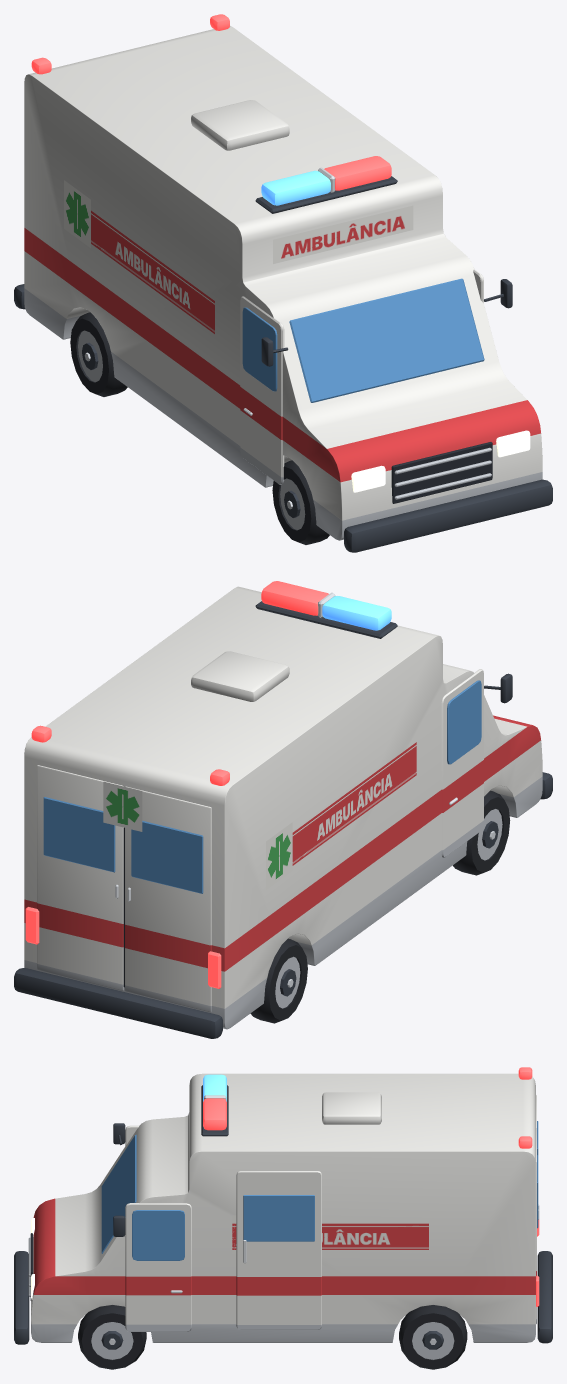
The model's file is ambulancia.glb.
3 renders of one model, top to bottom at view 1: azimuth 30°, elevation 25°; view 2: azimuth 150°, elevation 25°; view 3: azimuth 270°, elevation 25°, orthographic. The views are drawn at different scales.
Parts seen in each view (by area): view 1: ambulancia, porta_1, roda_2, roda_1, sirene_azul_1, sirene_vermelha_1; view 2: ambulancia, porta_traseira_1, porta_traseira_2, porta_1, roda_2, roda_1, sirene_azul_1, sirene_vermelha_1; view 3: ambulancia, porta_correr_1, porta_2, roda_4, roda_3, sirene_vermelha_1, sirene_azul_1.
Boxes of the visible parts, left/top/right/bottom form: ambulancia: left=14, top=26, right=552, bottom=552; porta_1: left=240, top=296, right=284, bottom=484; roda_2: left=70, top=312, right=127, bottom=396; roda_1: left=272, top=460, right=329, bottom=544; sirene_azul_1: left=261, top=170, right=330, bottom=205; sirene_vermelha_1: left=324, top=156, right=391, bottom=190; ambulancia: left=14, top=586, right=552, bottom=1038; porta_traseira_1: left=125, top=786, right=211, bottom=1012; porta_traseira_2: left=37, top=765, right=123, bottom=990; porta_1: left=441, top=669, right=483, bottom=857; roda_2: left=250, top=938, right=307, bottom=1023; roda_1: left=453, top=790, right=510, bottom=875; sirene_azul_1: left=322, top=596, right=391, bottom=630; sirene_vermelha_1: left=261, top=581, right=328, bottom=615; ambulancia: left=14, top=1073, right=552, bottom=1344; porta_correr_1: left=236, top=1171, right=321, bottom=1329; porta_2: left=125, top=1203, right=191, bottom=1331; roda_4: left=399, top=1305, right=467, bottom=1369; roda_3: left=78, top=1305, right=146, bottom=1369; sirene_vermelha_1: left=203, top=1098, right=226, bottom=1130; sirene_azul_1: left=203, top=1074, right=226, bottom=1101.
Size of the model in its own units: 2.63 by 3.07 by 6.3.
Materials: 8 (4 with a texture image).
